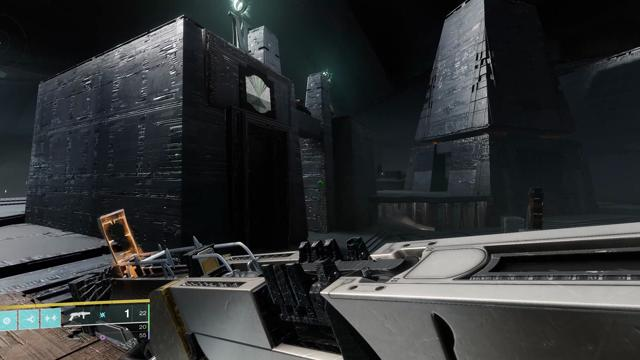commune: (246, 75, 271, 114)
